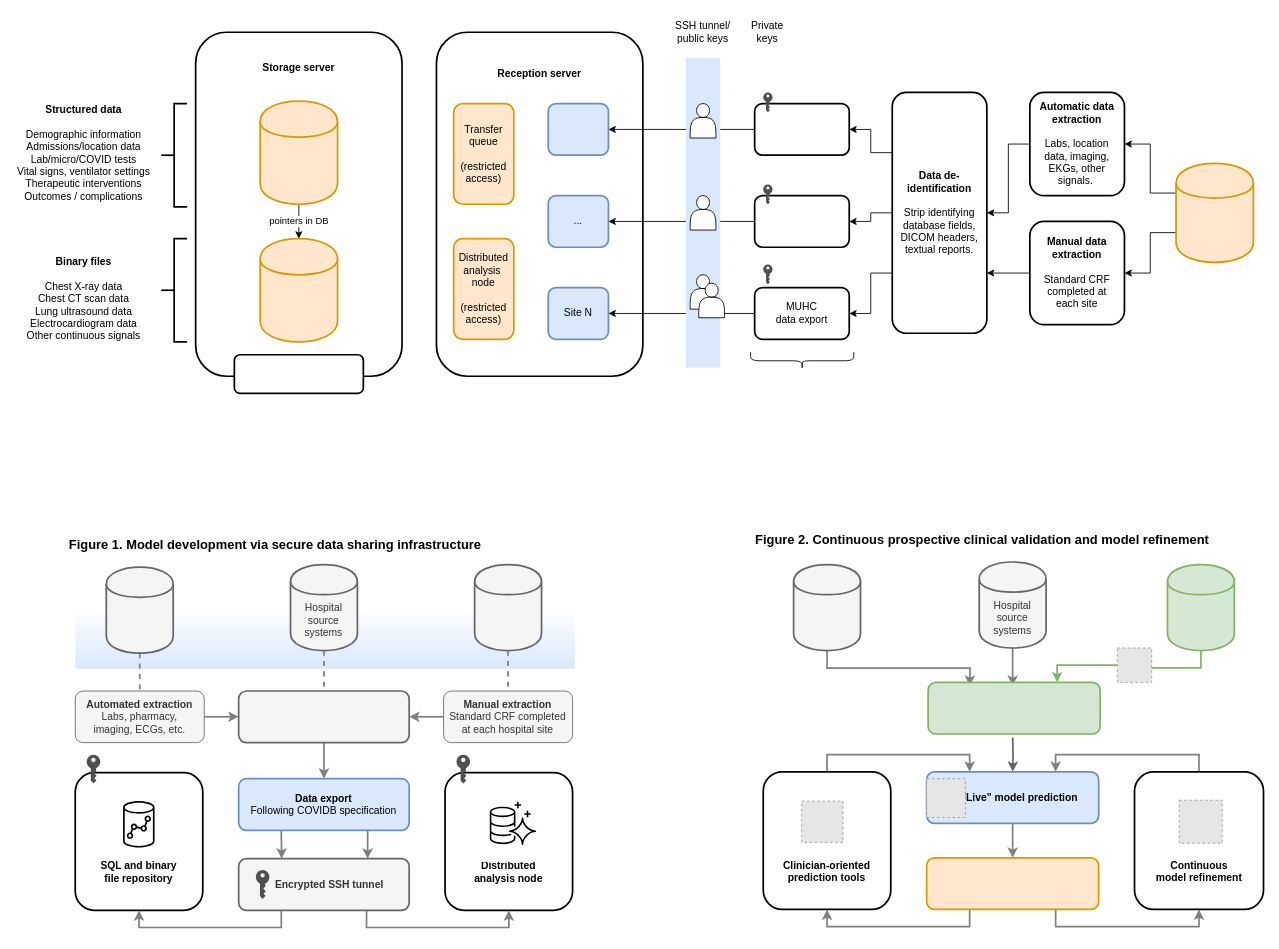
Some shapes in this 1279 by 949 pixel diagram are drawn without their labels. Grey dashed boxes stand in for pictures. The centre of each missing label's shape, as x and y in pixels:
Central data file repository: the point at 298,289
Central PostgreSQL database: the point at 298,152
CHUM data export: the point at 801,129
Data de-duplication and import: the point at 298,373
Data de-identification: the point at 323,716
Data lakes at participating sites: the point at 1214,212
Eligible patient detected: the point at 1014,707
Follows COVIDB specification: the point at 802,360
JGH data export: the point at 801,221
Prospective model validation: the point at 1012,883
Site 1: the point at 578,129
